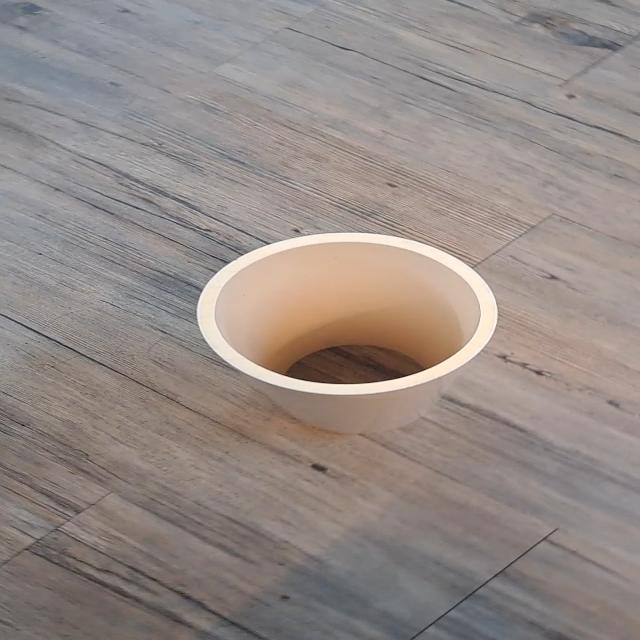CORAL: (172, 219, 520, 453)
